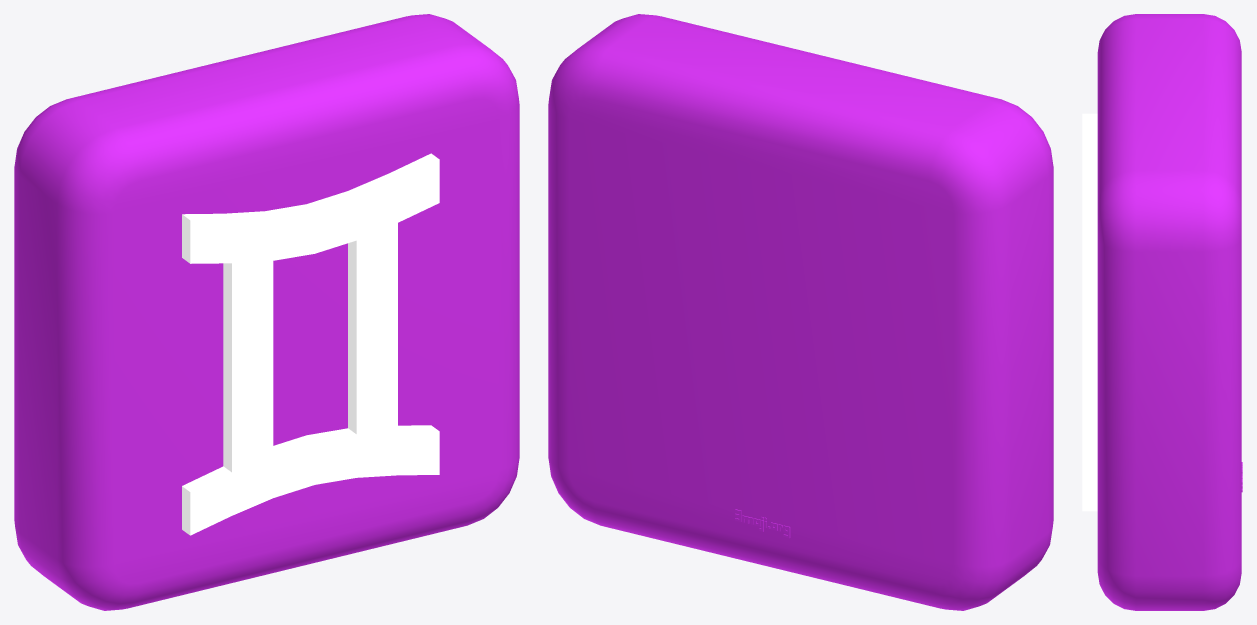
Rendered from gemini.gltf.
3 renders of one model, left to right at view 1: azimuth 30°, elevation 25°; view 2: azimuth 150°, elevation 25°; view 3: azimuth 270°, elevation 25°, orthographic. The views are drawn at different scales.
Visible parts, largest first — view 1: Cube.6401; view 2: Cube.6401; view 3: Cube.6401.
Part boxes in pixels (x1=…): Cube.6401: x1=14, y1=14, x2=519, y2=610; Cube.6401: x1=548, y1=14, x2=1053, y2=610; Cube.6401: x1=1082, y1=14, x2=1242, y2=610.
Size of the model in its own units: 2.2 by 2.2 by 0.7337.
1 material, 1 textured.
